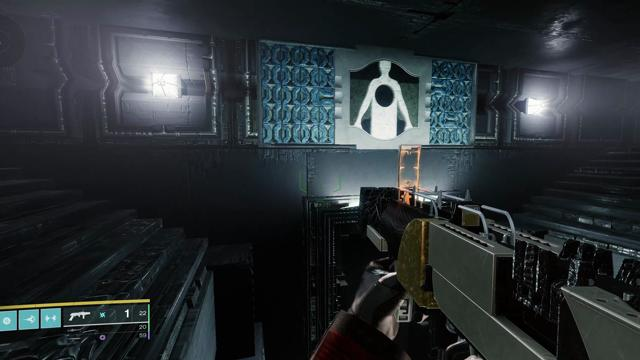grief: (350, 59, 420, 140)
